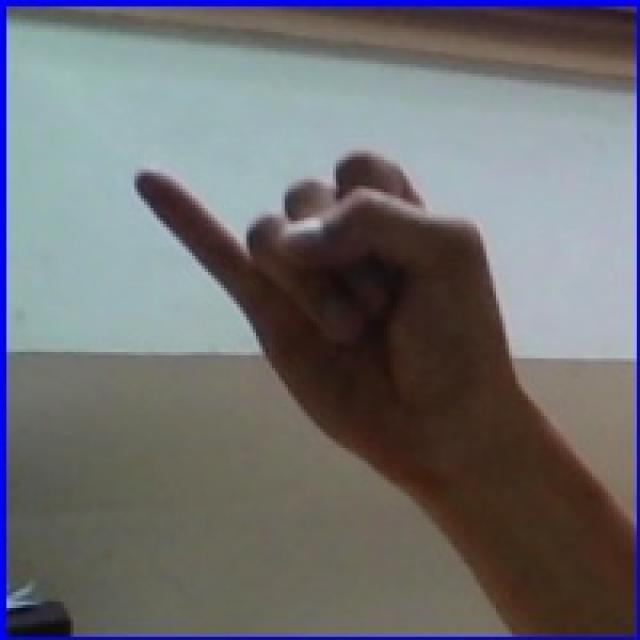J: (72, 100, 588, 459)
